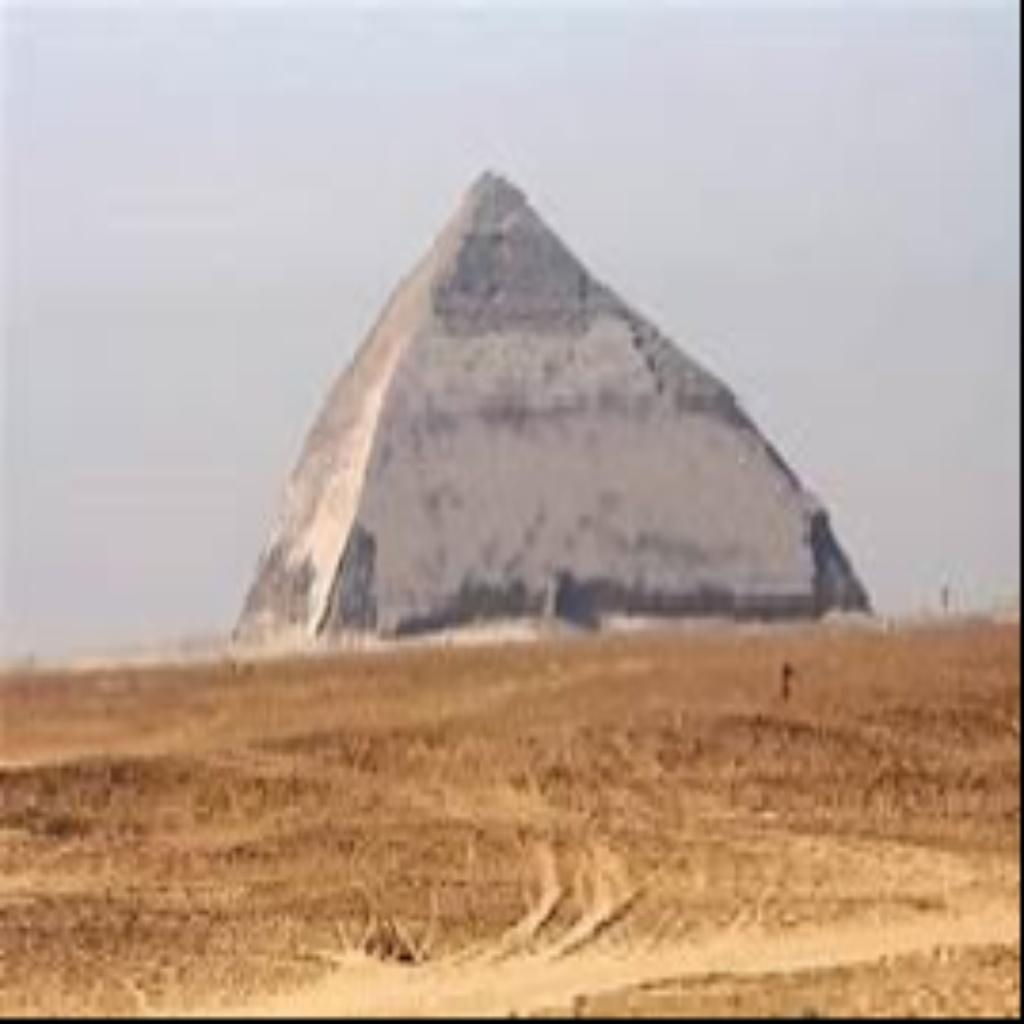Bent Pyramid of King Sneferu: (224, 154, 876, 658)
